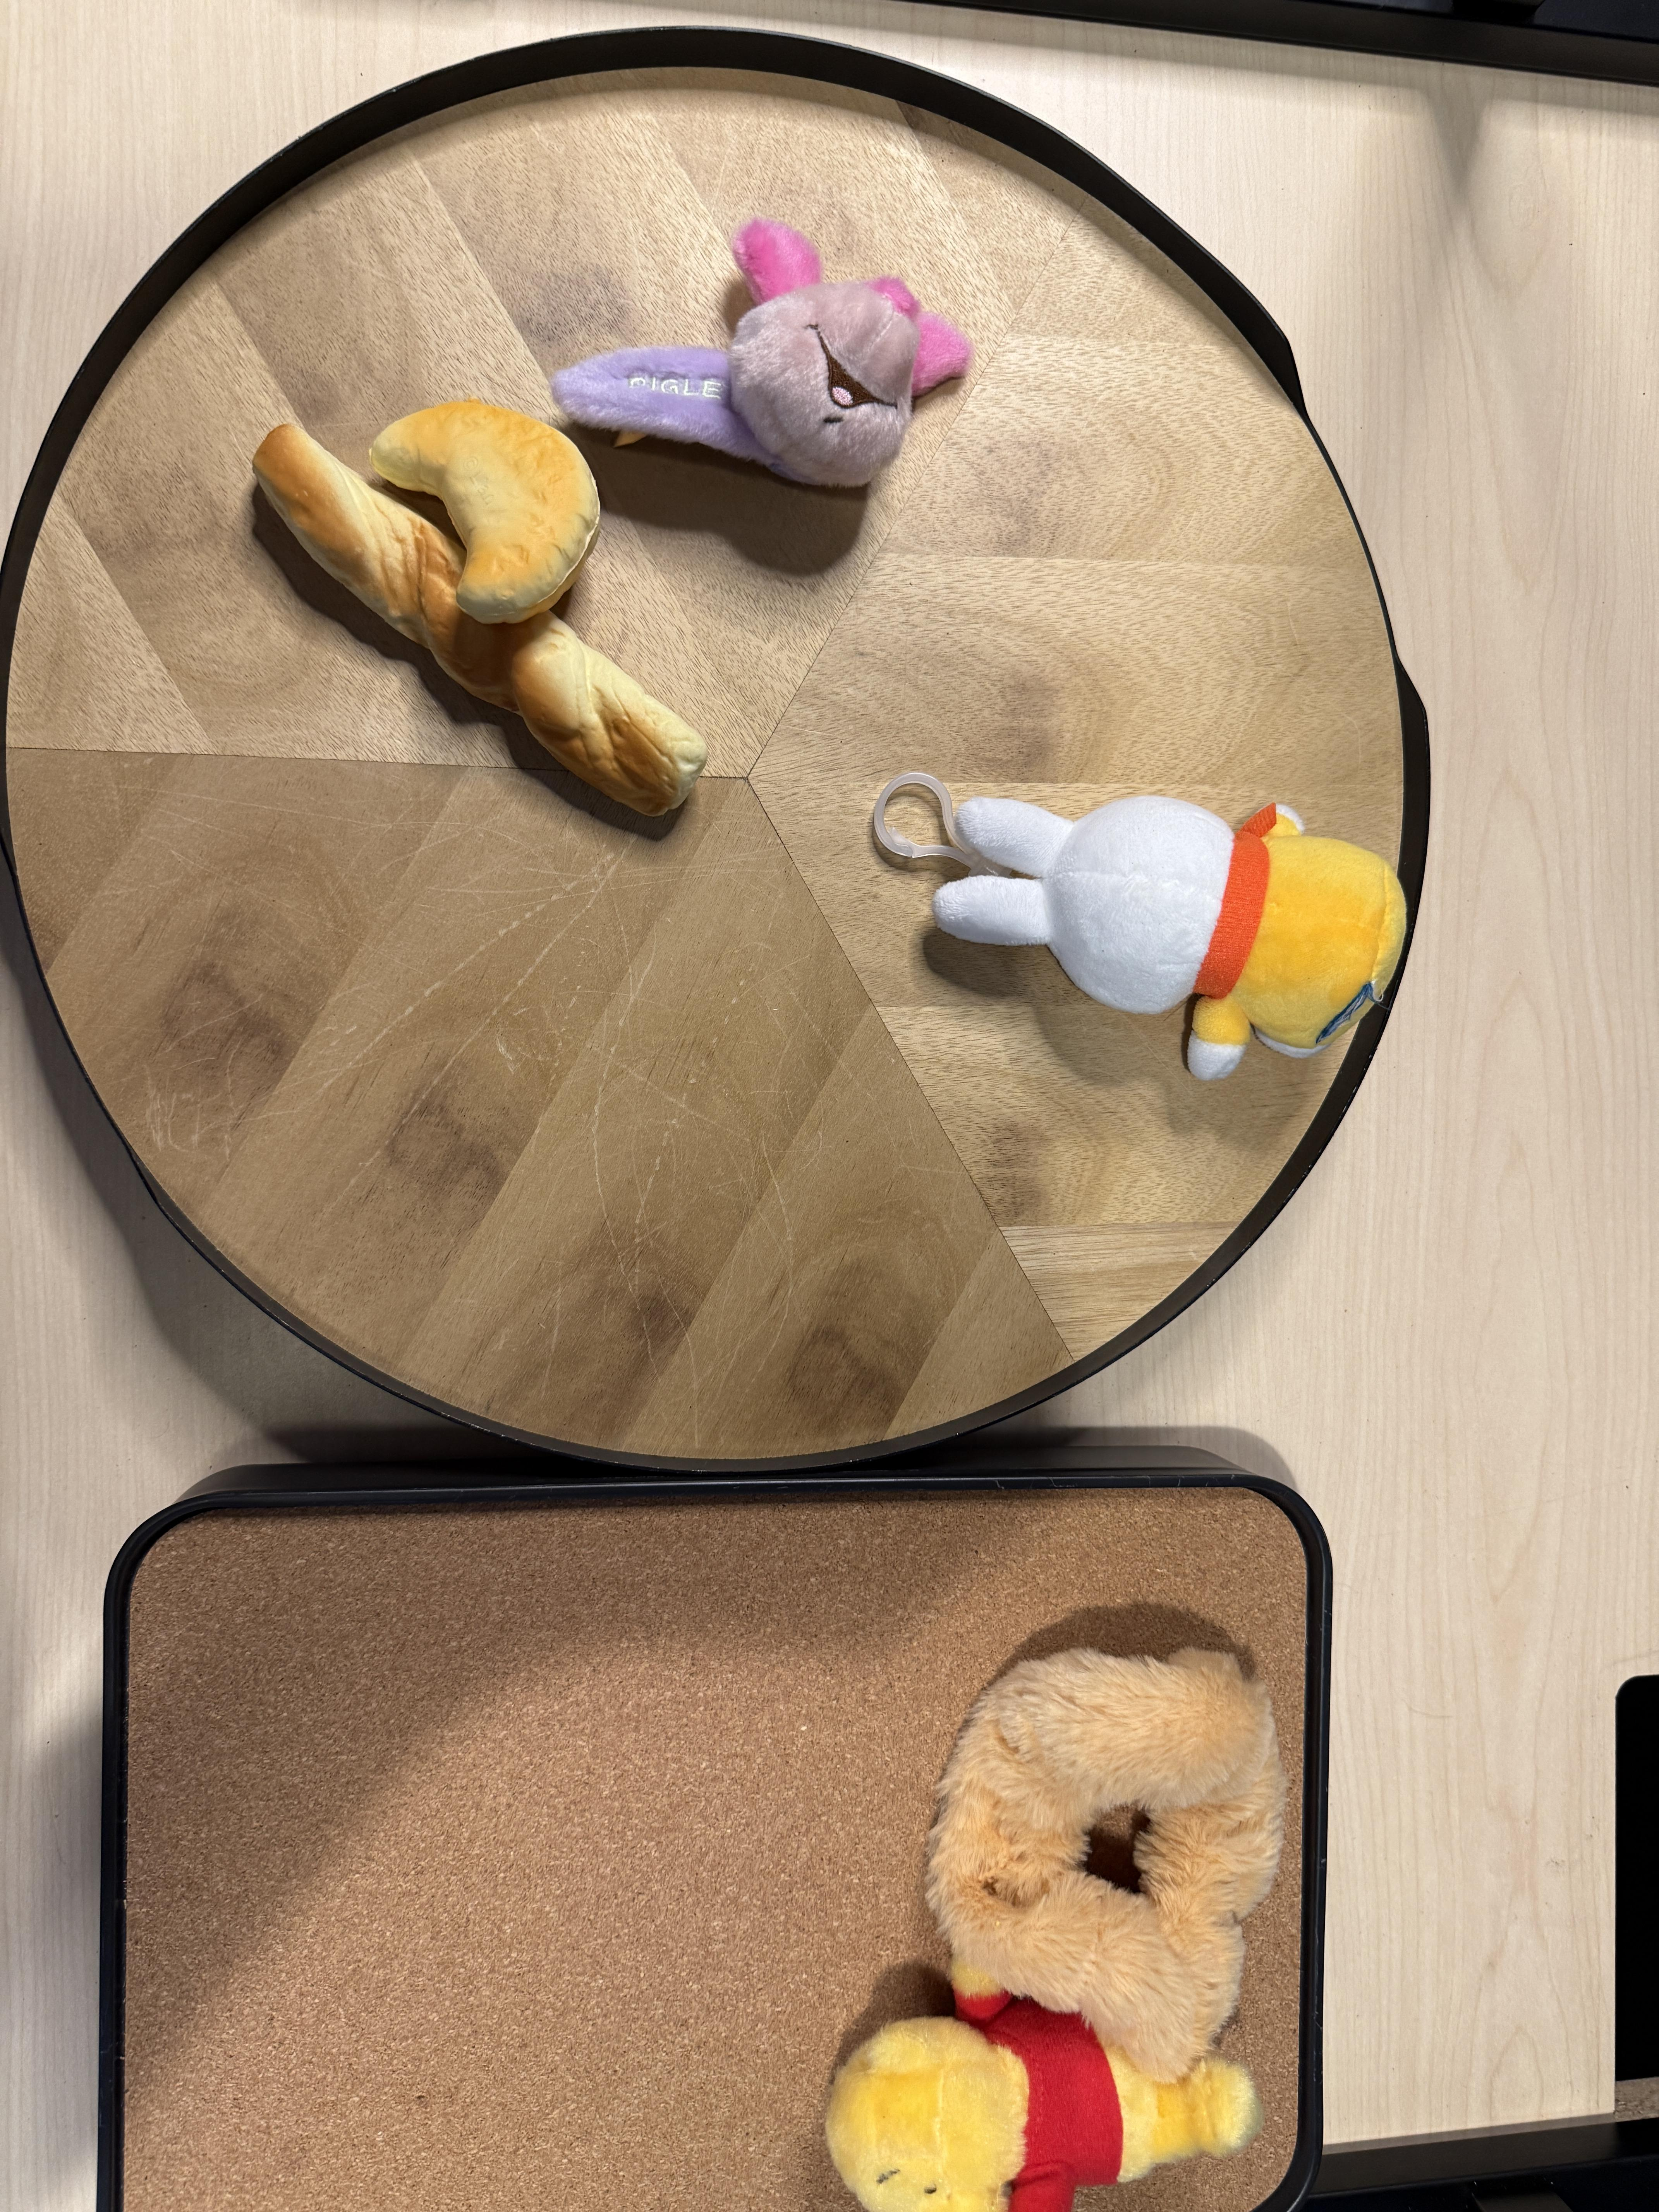bread: (256, 427, 716, 833), (376, 399, 608, 606)
doll: (821, 1637, 1284, 2212), (868, 779, 1417, 1076), (561, 221, 978, 495)
